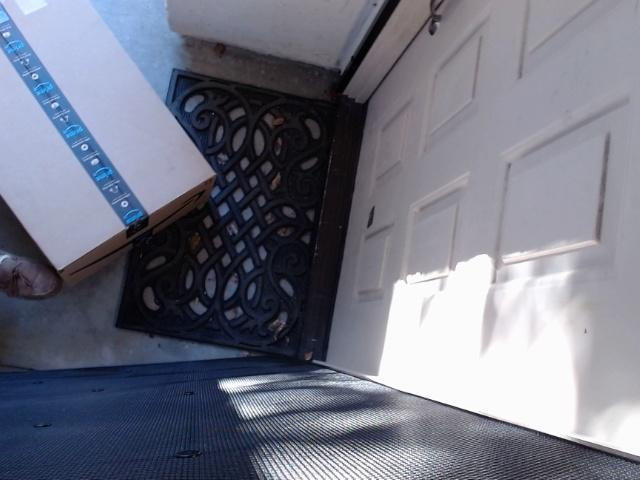box: (0, 0, 271, 298)
